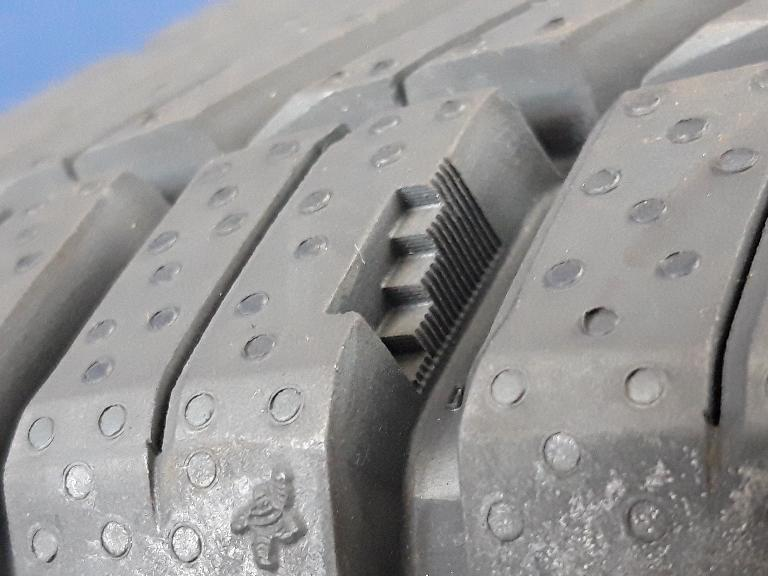temoin:100: (318, 151, 514, 406)
